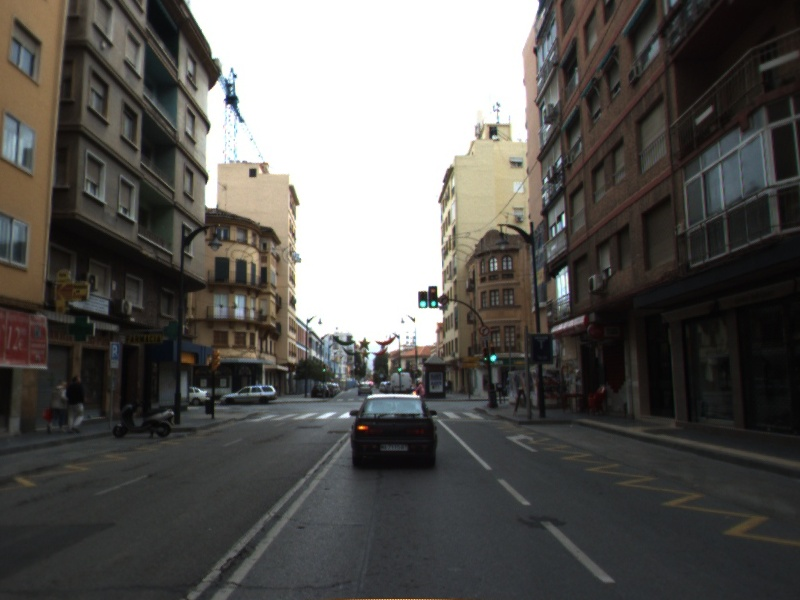RIGHT: (504, 431, 540, 454)
